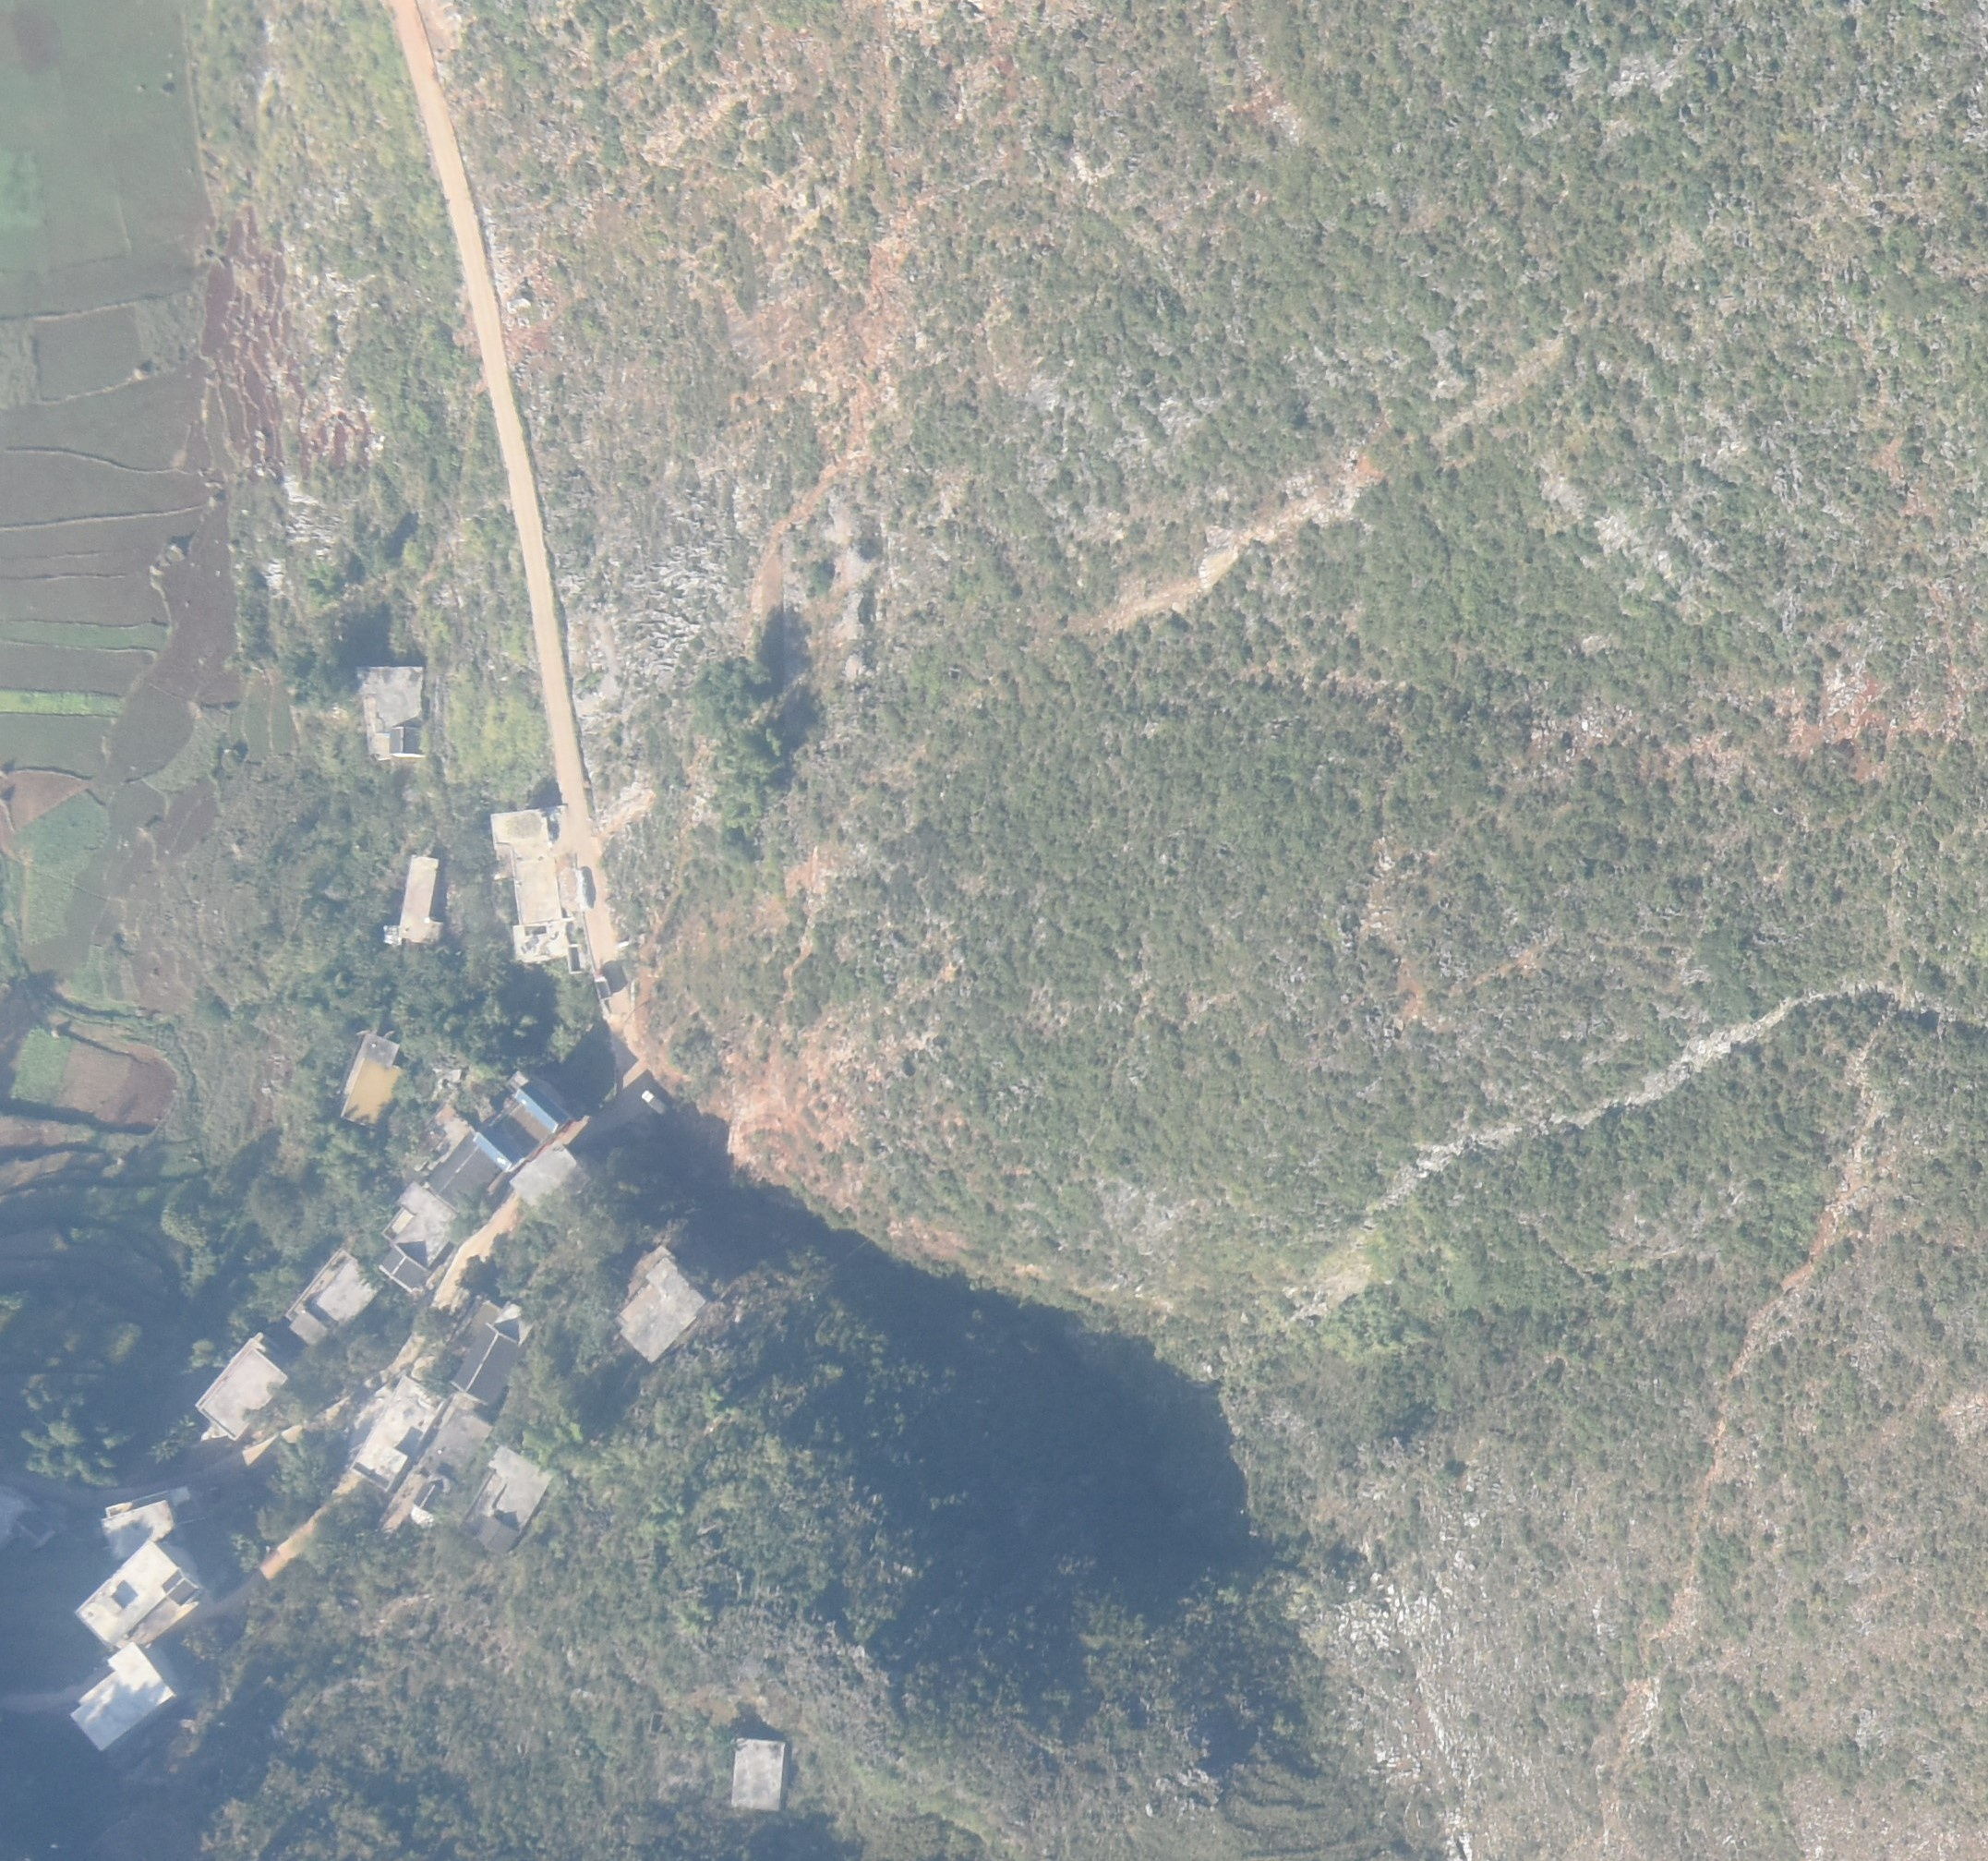building: (507, 1136, 634, 1283), (71, 1537, 214, 1646), (488, 802, 570, 970), (350, 1370, 452, 1495), (72, 1645, 175, 1756), (613, 1246, 705, 1363), (199, 1335, 295, 1441), (283, 1248, 380, 1351), (377, 1182, 466, 1293), (452, 1295, 534, 1409), (480, 1445, 554, 1553), (421, 1404, 494, 1491), (364, 662, 428, 760), (426, 1132, 502, 1214), (105, 1486, 189, 1557), (342, 1037, 401, 1129), (384, 857, 444, 945), (730, 1738, 789, 1812), (470, 1121, 524, 1175), (517, 1087, 569, 1138)
vehicle: (640, 1089, 668, 1118)
